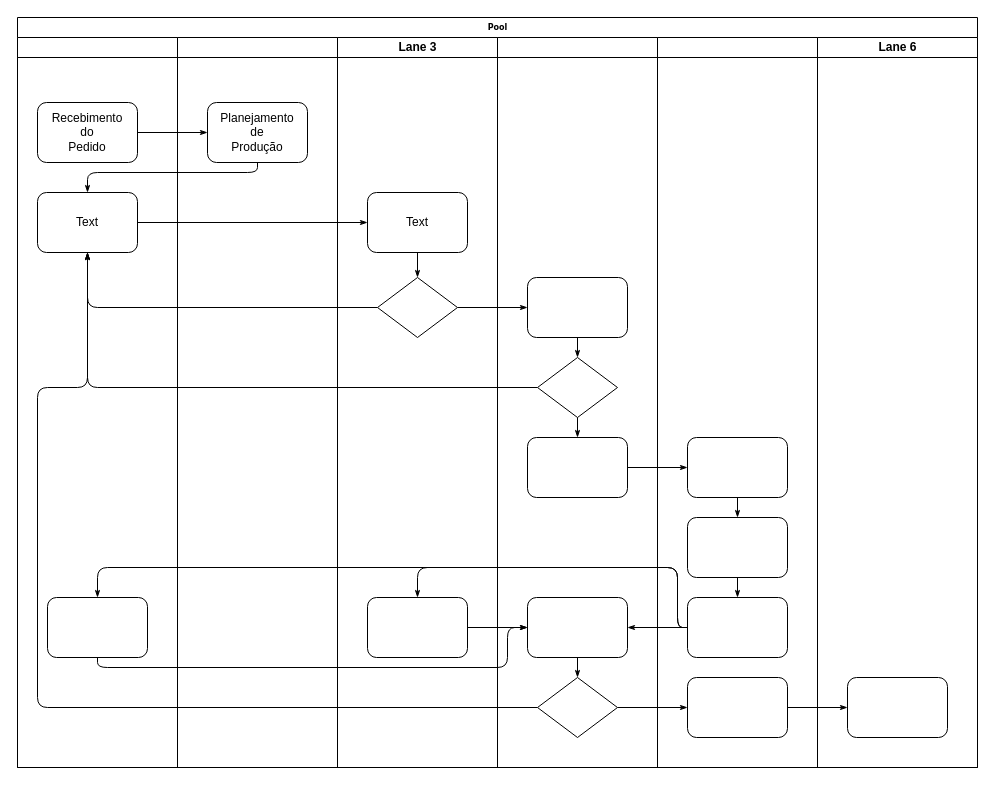
The diagram is 995 pixels wide and 785 high, and some of its shapes have lost their labels. Each missing label, with the box of its shape:
Lane 1: (16, 36, 178, 768)
Lane 2: (176, 36, 338, 768)
Lane 4: (496, 36, 658, 768)
Lane 5: (656, 36, 818, 768)
